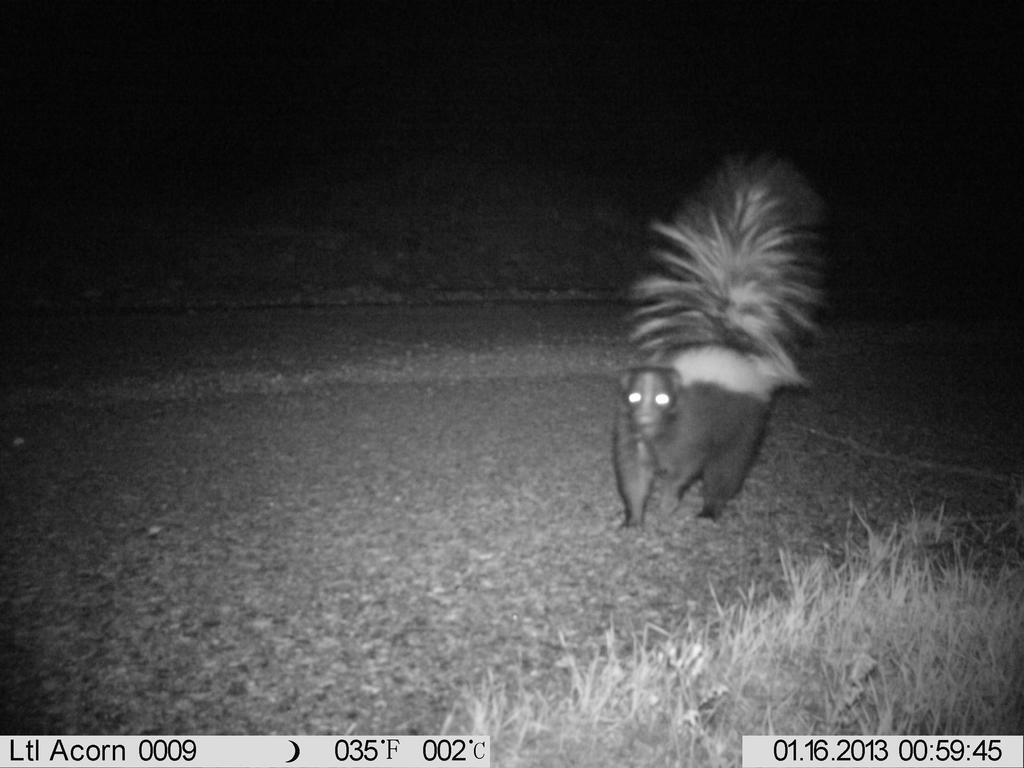skunk: (597, 148, 831, 533)
